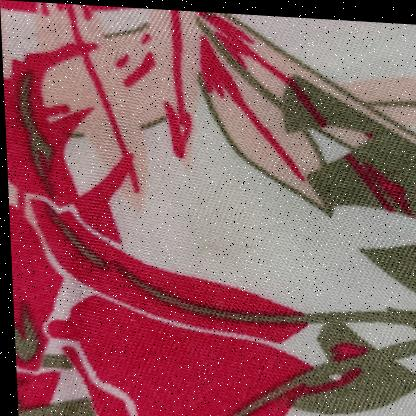spot: (183, 217, 255, 257)
